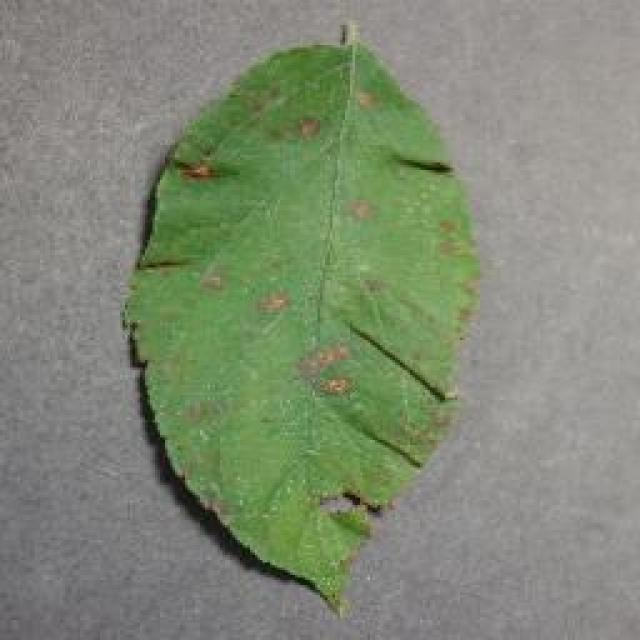apple scab disease: (120, 17, 482, 615)
